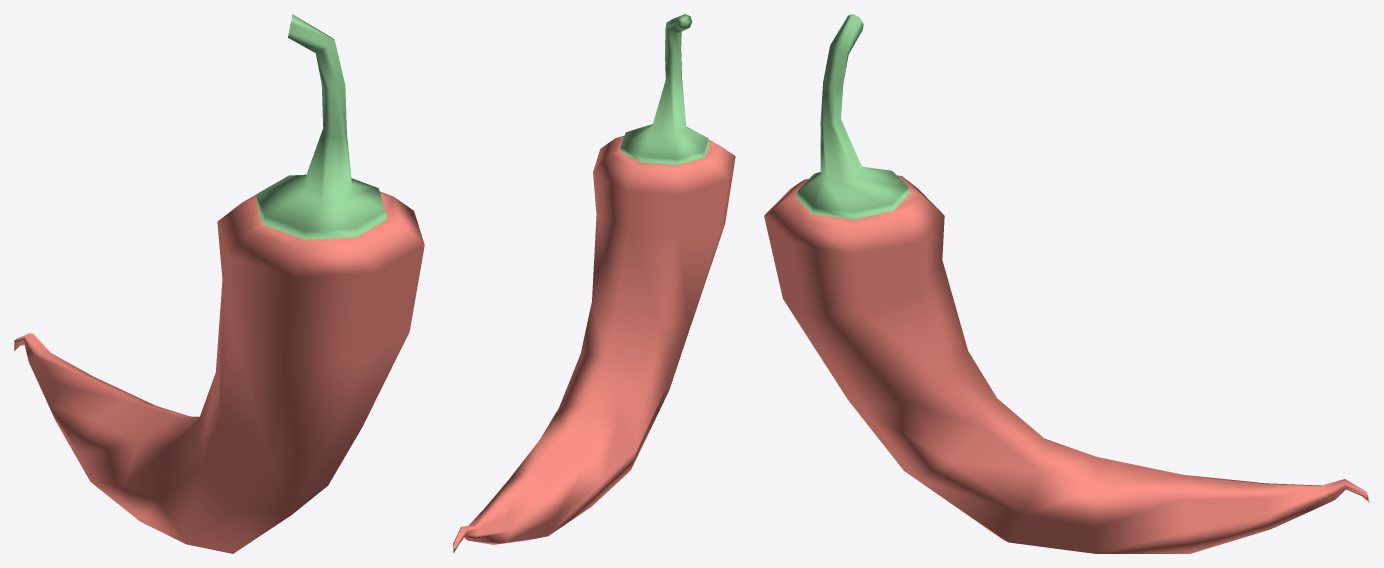
File: ChiliPepper.fbx
3 views of the same model, side by side, from view 1: azimuth 30°, elevation 25°; view 2: azimuth 150°, elevation 25°; view 3: azimuth 270°, elevation 25° (orthographic). The views are drawn at different scales.
Parts seen in each view (by area): view 1: Chili_Pepper_01; view 2: Chili_Pepper_01; view 3: Chili_Pepper_01.
Part boxes in pixels (x1,y1,x2,y2): Chili_Pepper_01: (14, 14, 424, 553); Chili_Pepper_01: (453, 14, 735, 553); Chili_Pepper_01: (764, 14, 1369, 553).
Size of the model in its own units: 44.38 by 143 by 149.
